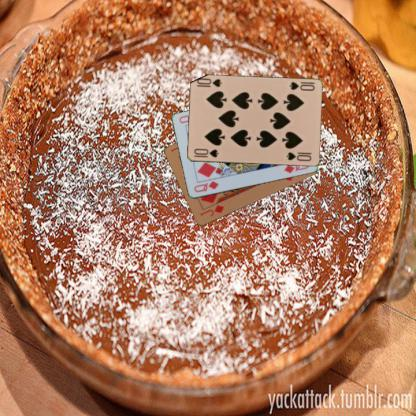10s: (286, 79, 316, 92), (191, 146, 220, 159)
Jd: (197, 203, 225, 218)
Qd: (191, 178, 220, 194)
